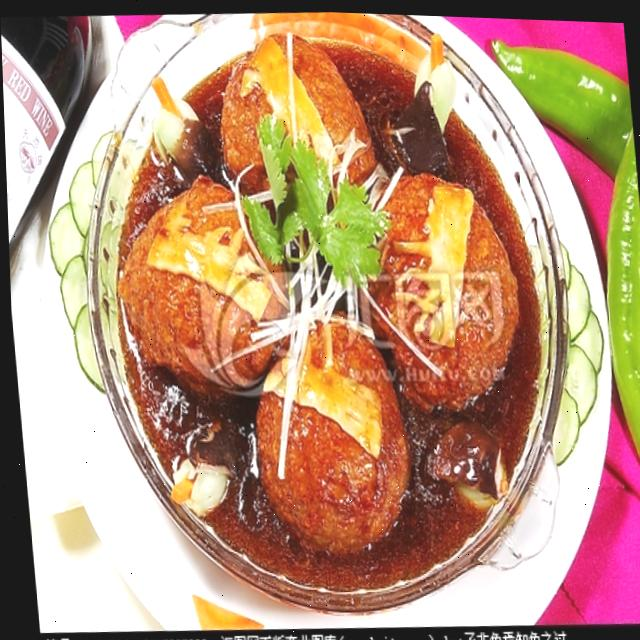猪肉菜式: (6, 0, 635, 640)
